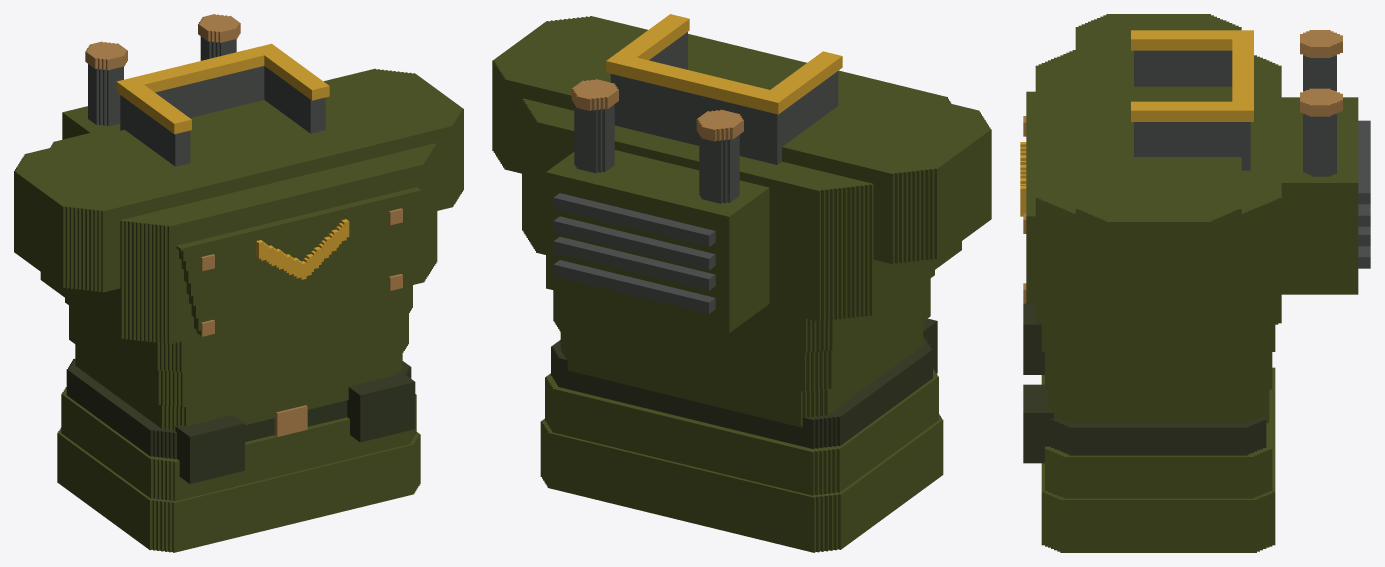
The model's file is armor_trooper_worn_body.glb.
3 renders of one model, left to right at view 1: azimuth 30°, elevation 25°; view 2: azimuth 150°, elevation 25°; view 3: azimuth 270°, elevation 25°, orthographic. The views are drawn at different scales.
Visible parts, largest first — view 1: armor_trooper_worn_body:compound; view 2: armor_trooper_worn_body:compound; view 3: armor_trooper_worn_body:compound.
Part boxes in pixels (x1,y1,x2,y2): armor_trooper_worn_body:compound: (14, 14, 463, 552); armor_trooper_worn_body:compound: (492, 14, 991, 552); armor_trooper_worn_body:compound: (1020, 14, 1370, 552).
Bounding box in the file's own units: 0.64 × 0.596 × 0.456.
